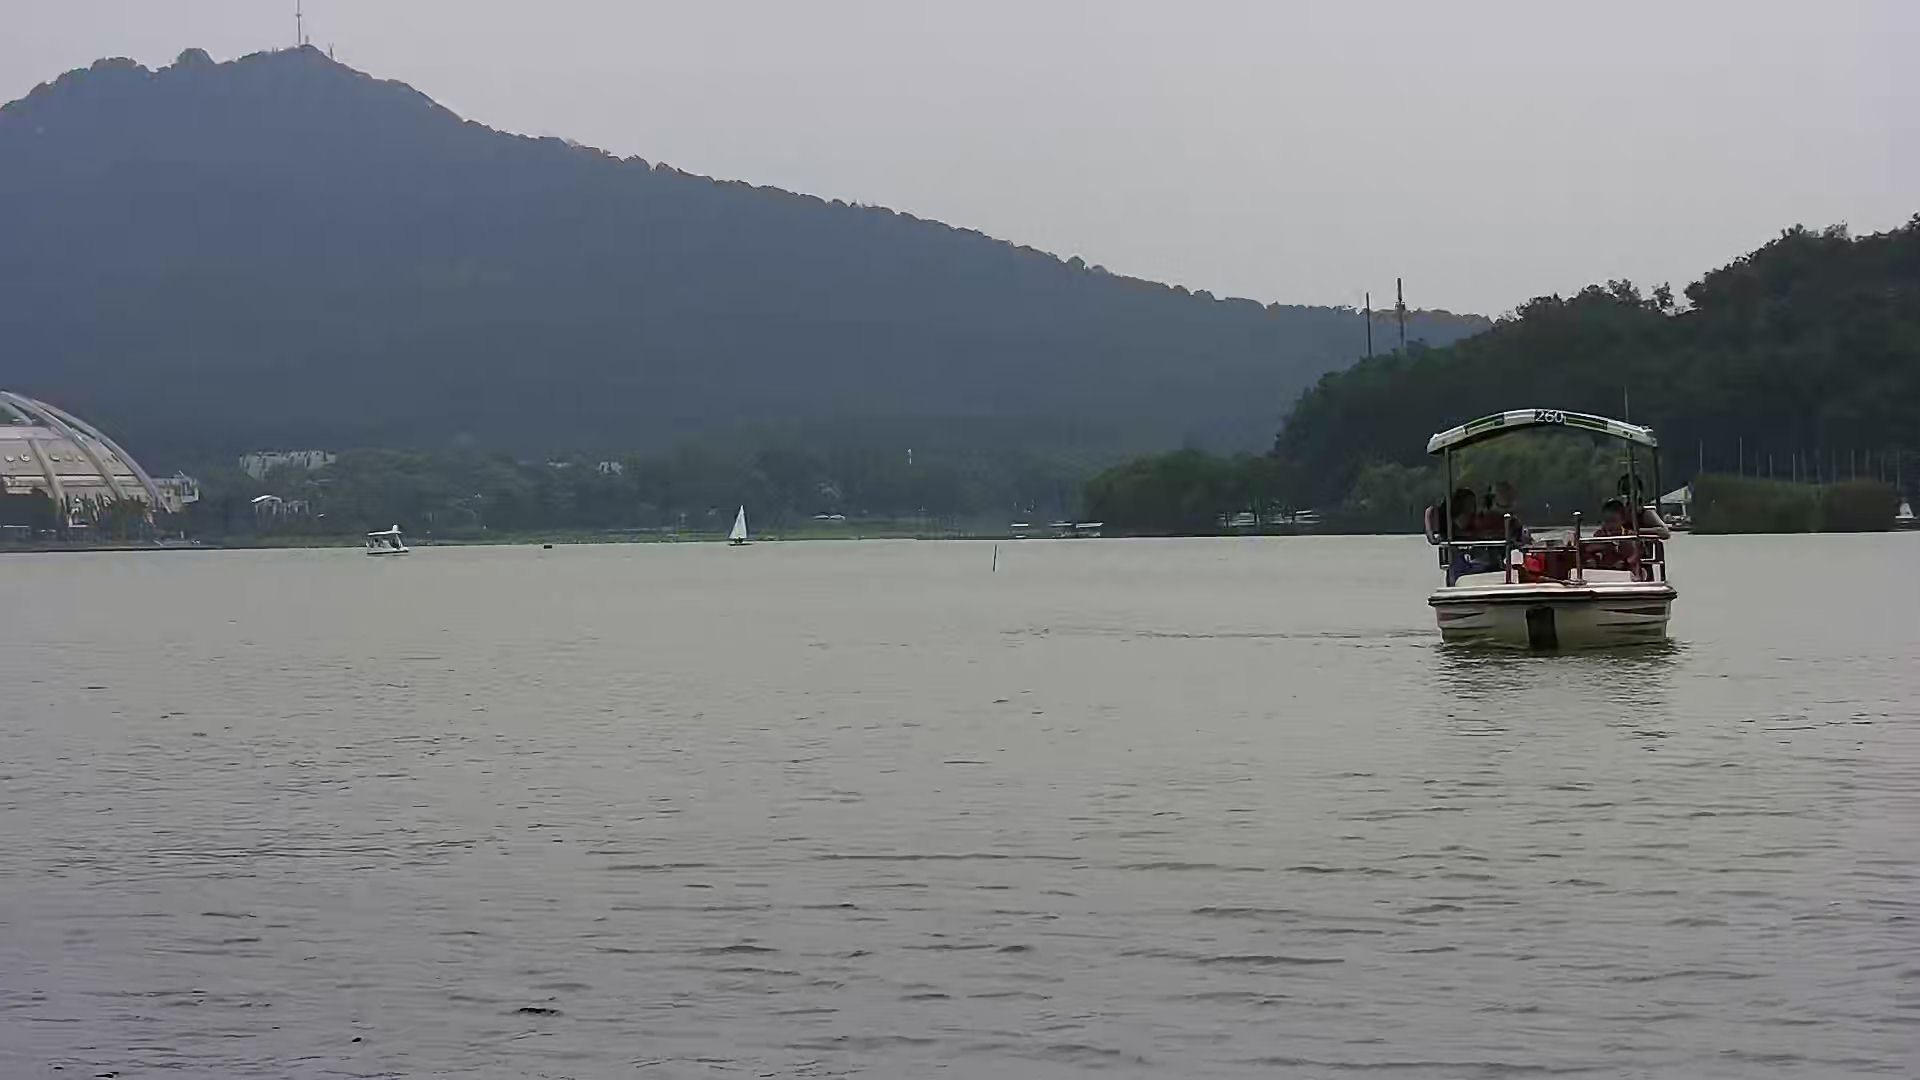boat: (1416, 396, 1682, 652), (361, 530, 412, 561)
person: (1587, 504, 1634, 572), (1486, 488, 1521, 568)
